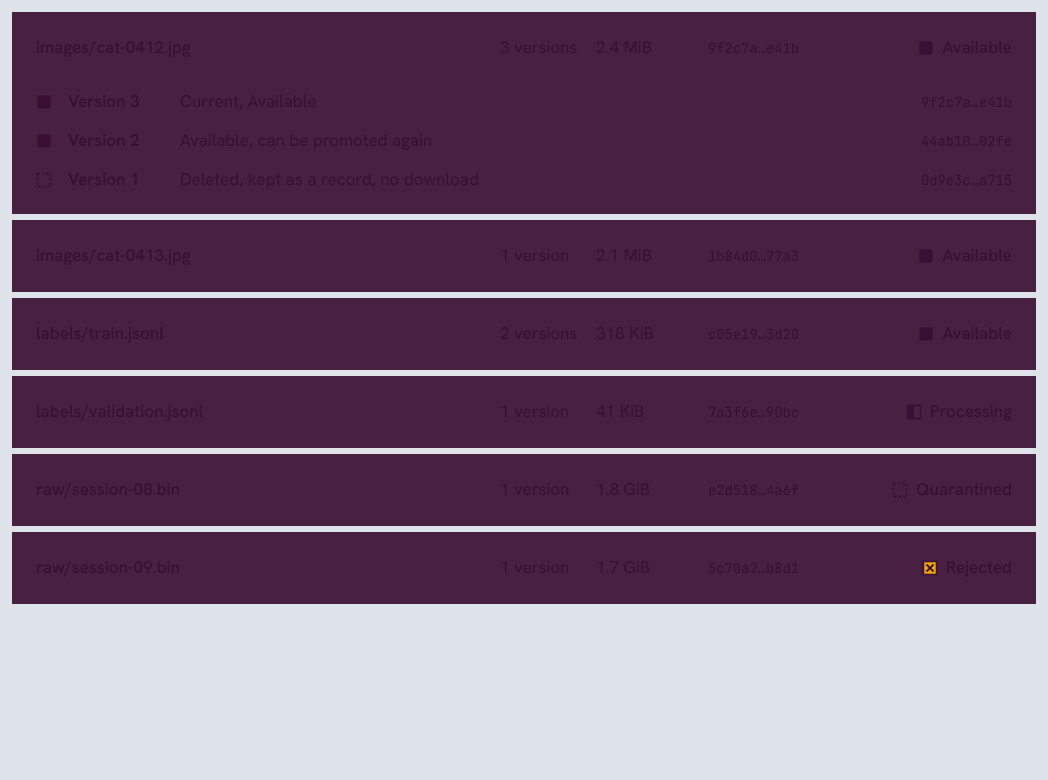
CatalogBoard › opens the first row by default and one row at a time
The width and height of the screenshot is (1048, 780).
Click the button "labels/train.jsonl 2 versions 318 KiB c05e19…3d20 Available": (524, 334) top-left (12, 298), bottom-right (1036, 370)
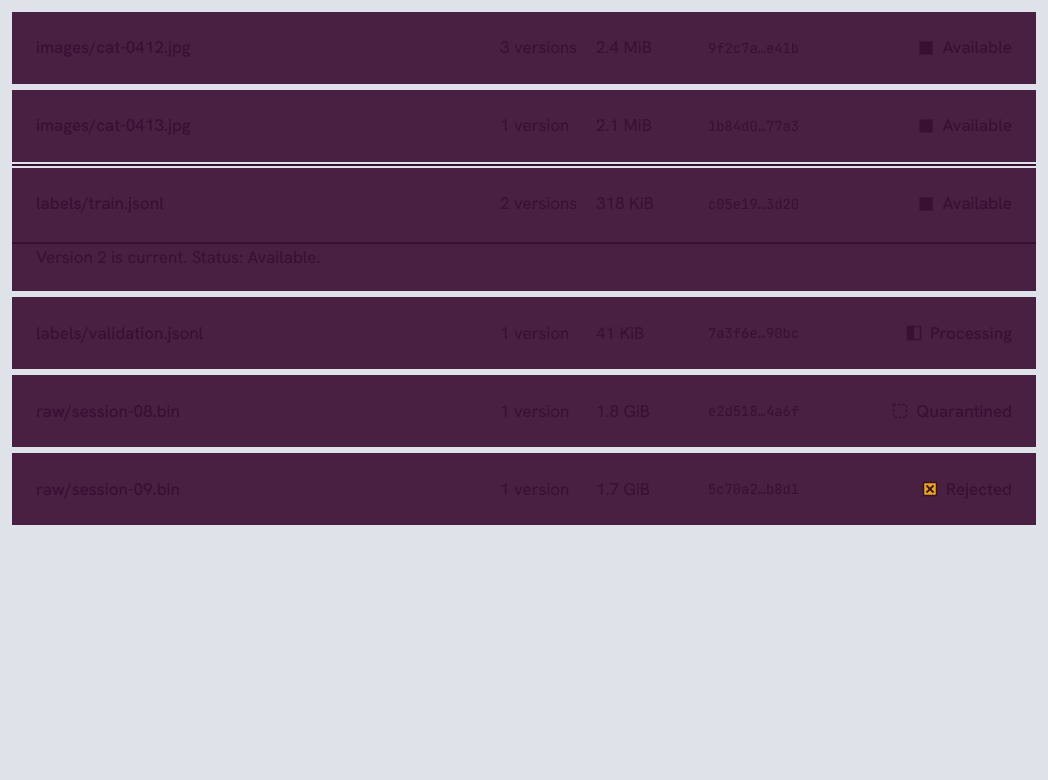
Expected: the button "labels/train.jsonl 2 versions 318 KiB c05e19…3d20 Available" is expanded, top-left (12, 168), bottom-right (1036, 240)
